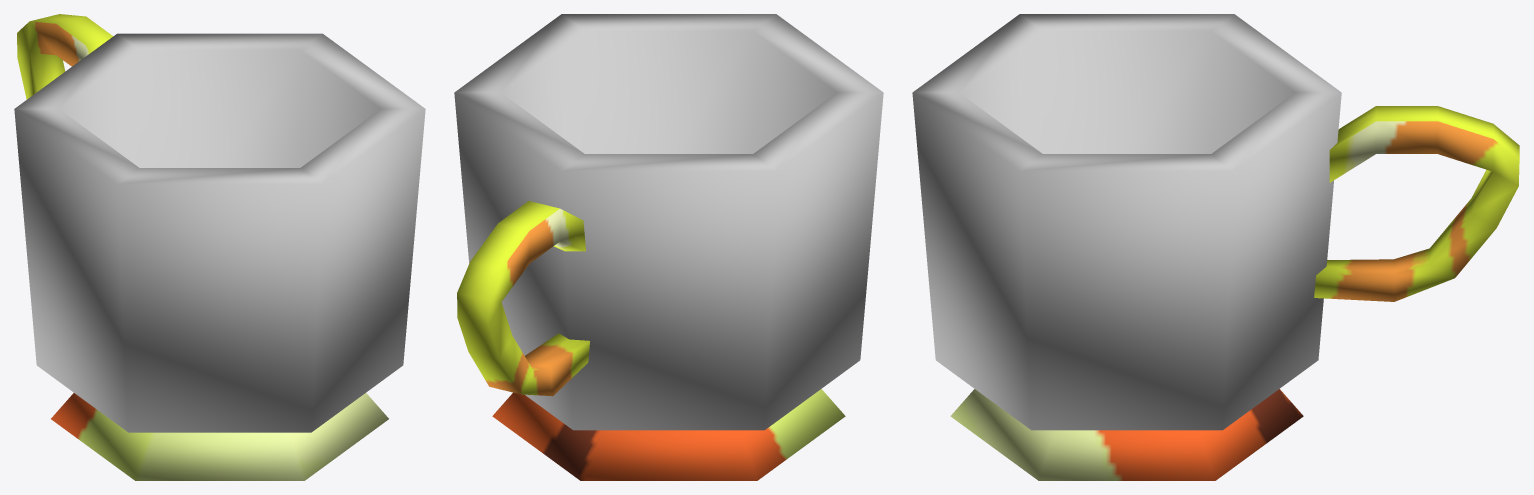
Rendered from teacup_test.fbx.
3 views of the same model, side by side, from view 1: azimuth 30°, elevation 25°; view 2: azimuth 150°, elevation 25°; view 3: azimuth 270°, elevation 25° (orthographic). The views are drawn at different scales.
Visible parts, largest first — view 1: cup_main, cup_base, cup_handle; view 2: cup_main, cup_base, cup_handle; view 3: cup_main, cup_handle, cup_base.
Part boxes in pixels (x1,y1,x2,y2): cup_main: (14, 33, 425, 432); cup_base: (51, 393, 388, 480); cup_handle: (17, 14, 113, 99); cup_main: (454, 14, 883, 430); cup_base: (492, 389, 845, 480); cup_handle: (457, 201, 589, 396); cup_main: (912, 14, 1341, 430); cup_handle: (1314, 106, 1519, 301); cup_base: (950, 389, 1303, 480).
Size of the model in its own units: 173 by 166 by 283.
